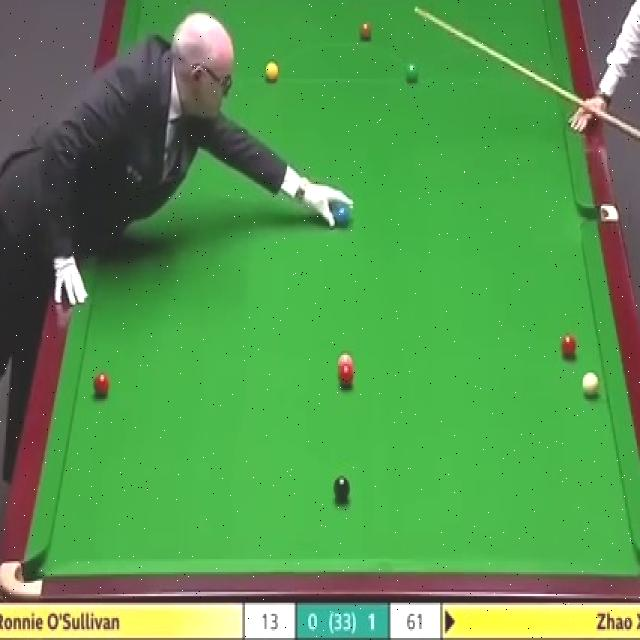black-ball: (333, 475, 350, 502)
blue-ball: (334, 202, 350, 229)
brown-ball: (359, 20, 372, 40)
green-ball: (404, 60, 418, 83)
pink-ball: (337, 351, 355, 371)
red-ball: (560, 333, 577, 359), (94, 372, 109, 396), (337, 368, 353, 386)
white-ball: (581, 372, 601, 398)
yellow-ball: (265, 62, 279, 83)
